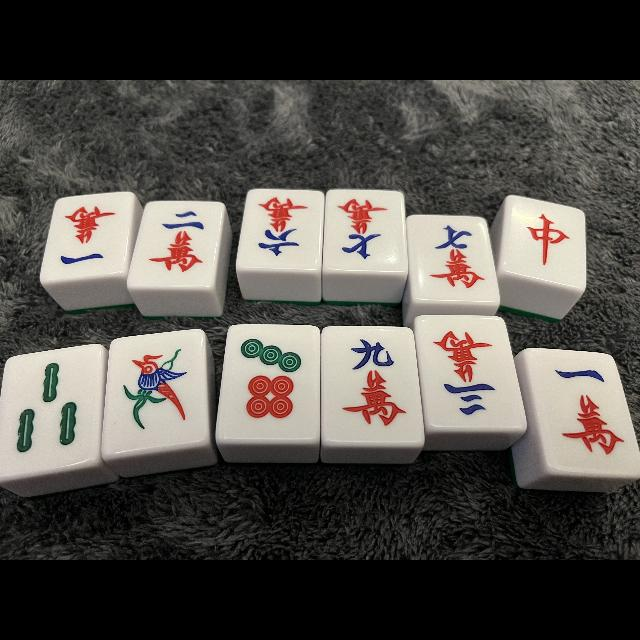b1: (110, 334, 202, 446)
b3: (4, 352, 94, 468)
c1: (533, 348, 629, 474), (52, 195, 125, 277)
c2: (140, 202, 218, 286)
c3: (419, 314, 518, 428)
c6: (245, 190, 317, 266)
c7: (411, 215, 494, 302), (326, 190, 406, 272)
c9: (326, 328, 422, 442)
d7: (226, 326, 316, 442)
dr: (506, 200, 586, 278)
